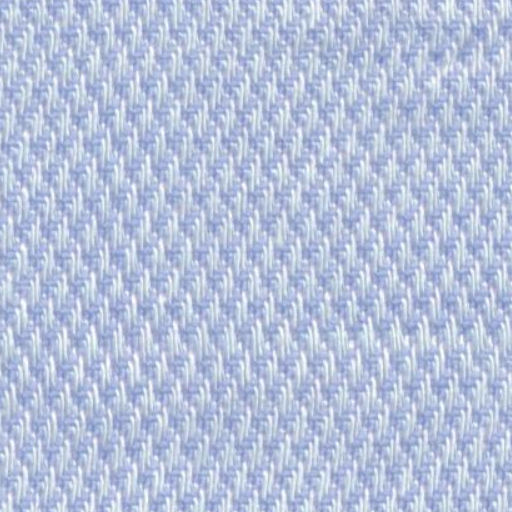TuoSha: (37, 302, 488, 394)
